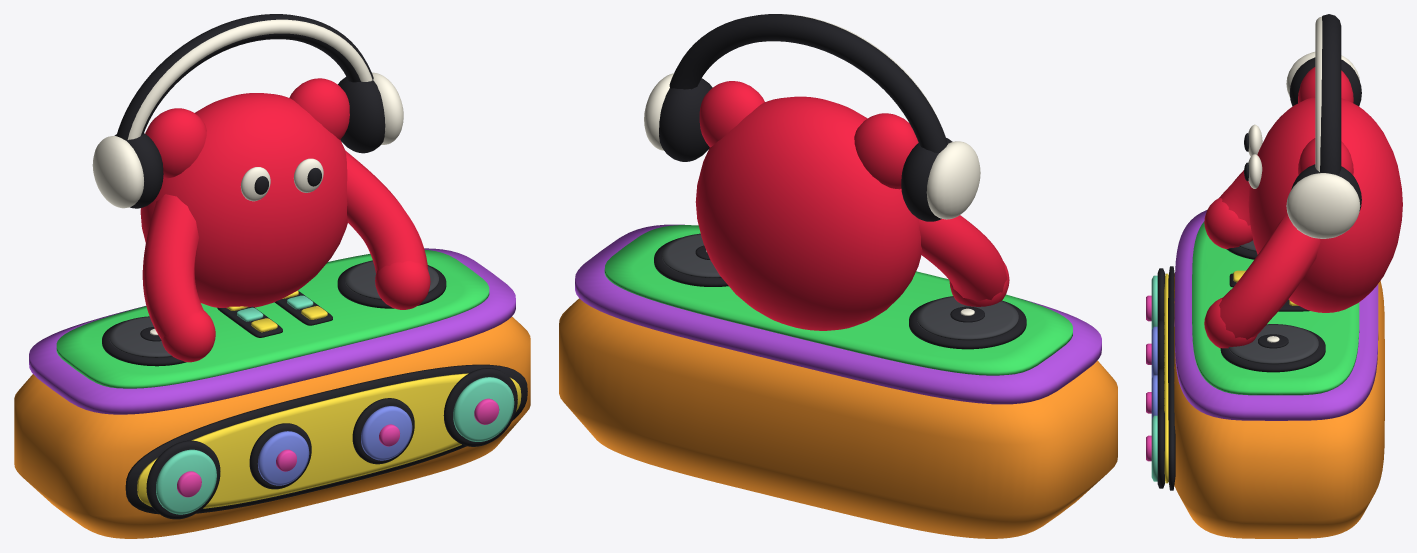
Rendered from wobble-dj-v01.glb.
3 renders of one model, left to right at view 1: azimuth 30°, elevation 25°; view 2: azimuth 150°, elevation 25°; view 3: azimuth 270°, elevation 25°, orthographic. The views are drawn at different scales.
Visible parts, largest first — view 1: Orange rounded booth, Red round body, Green control deck, Purple console rim, Yellow speaker face, Left curved arm, Speaker face ink outline, Right curved arm, Headband cream inset, Headband dark edge, Red round ear, Headphone cream shell (+21 smaller); view 2: Orange rounded booth, Red round body, Purple console rim, Green control deck, Headband dark edge, Left curved arm, Red round ear, Headphone cream shell, Headphone dark cushion.001, Left vinyl, Red round ear.001, Headphone dark cushion (+4 smaller); view 3: Orange rounded booth, Red round body, Green control deck, Purple console rim, Right curved arm, Headphone cream shell.001, Headband dark edge, Right vinyl, Left rounded hand, Speaker face ink outline, Right turntable rim, Right rounded hand (+17 smaller).
Boxes of the visible parts, x1,y1,x2,y2 form: Orange rounded booth: (14, 317, 530, 538); Red round body: (140, 93, 347, 308); Green control deck: (56, 250, 489, 388); Purple console rim: (29, 248, 515, 414); Yellow speaker face: (137, 373, 521, 508); Left curved arm: (142, 194, 203, 341); Speaker face ink outline: (125, 364, 527, 514); Right curved arm: (345, 150, 428, 273); Headband cream inset: (127, 19, 372, 139); Headband dark edge: (116, 14, 373, 140); Red round ear: (145, 108, 206, 178); Headphone cream shell: (92, 136, 143, 208); Orange rounded booth: (559, 298, 1117, 538); Red round body: (695, 96, 922, 330); Purple console rim: (575, 224, 1101, 404); Green control deck: (604, 225, 1072, 375); Headband dark edge: (669, 14, 947, 153); Left curved arm: (919, 215, 1007, 301); Red round ear: (854, 113, 918, 189); Headphone cream shell: (926, 141, 980, 219); Headphone dark cushion.001: (659, 78, 712, 161); Left vinyl: (917, 296, 1018, 340); Red round ear.001: (699, 81, 764, 147); Headphone dark cushion: (901, 138, 952, 221); Orange rounded booth: (1174, 273, 1384, 538); Red round body: (1248, 97, 1402, 312); Green control deck: (1192, 221, 1359, 395); Purple console rim: (1174, 210, 1378, 420); Right curved arm: (1219, 213, 1320, 339); Headphone cream shell.001: (1286, 173, 1360, 238); Headband dark edge: (1320, 14, 1341, 175); Right vinyl: (1228, 324, 1318, 364); Left rounded hand: (1204, 198, 1252, 248); Speaker face ink outline: (1168, 266, 1175, 490); Right turntable rim: (1220, 328, 1325, 372); Right rounded hand: (1204, 297, 1257, 348).
Bounding box in the file's own units: 3.16 × 2.78 × 1.56.
